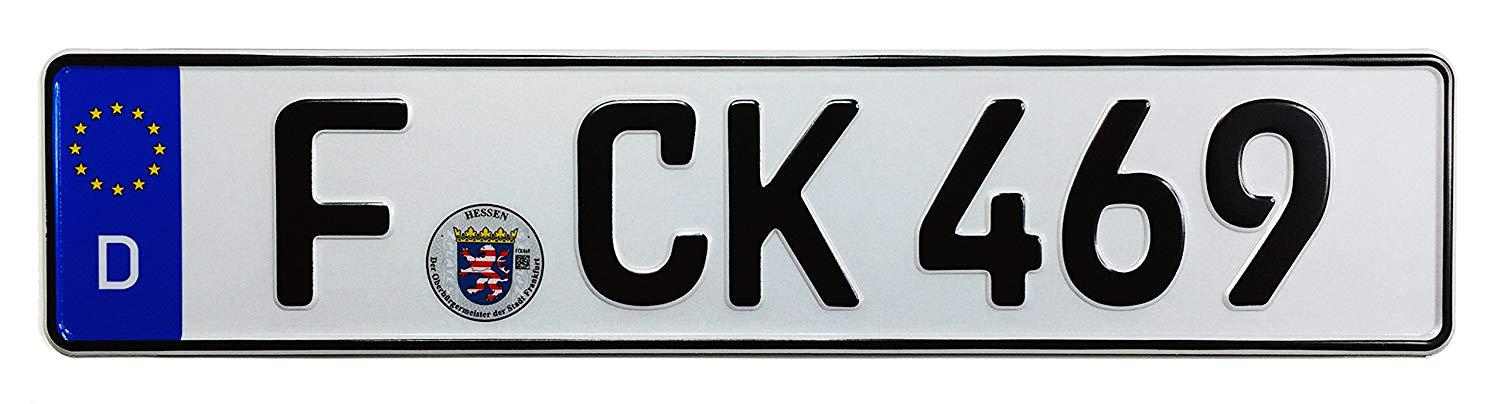4: (903, 89, 1049, 315)
6: (1052, 91, 1198, 318)
9: (1197, 87, 1336, 321)
C: (566, 88, 715, 315)
F: (263, 88, 421, 321)
K: (718, 83, 879, 322)
